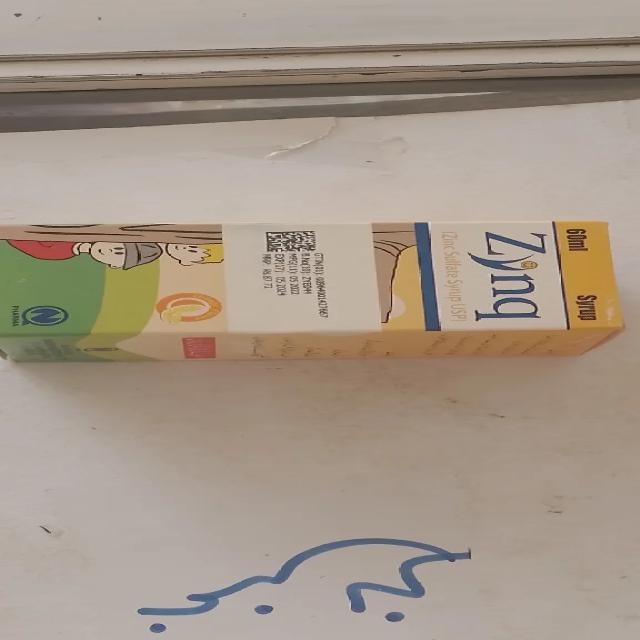drug-name: (467, 222, 550, 322)
